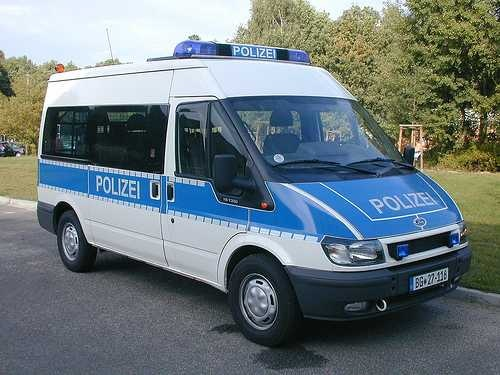Police Van: (42, 37, 465, 343)
